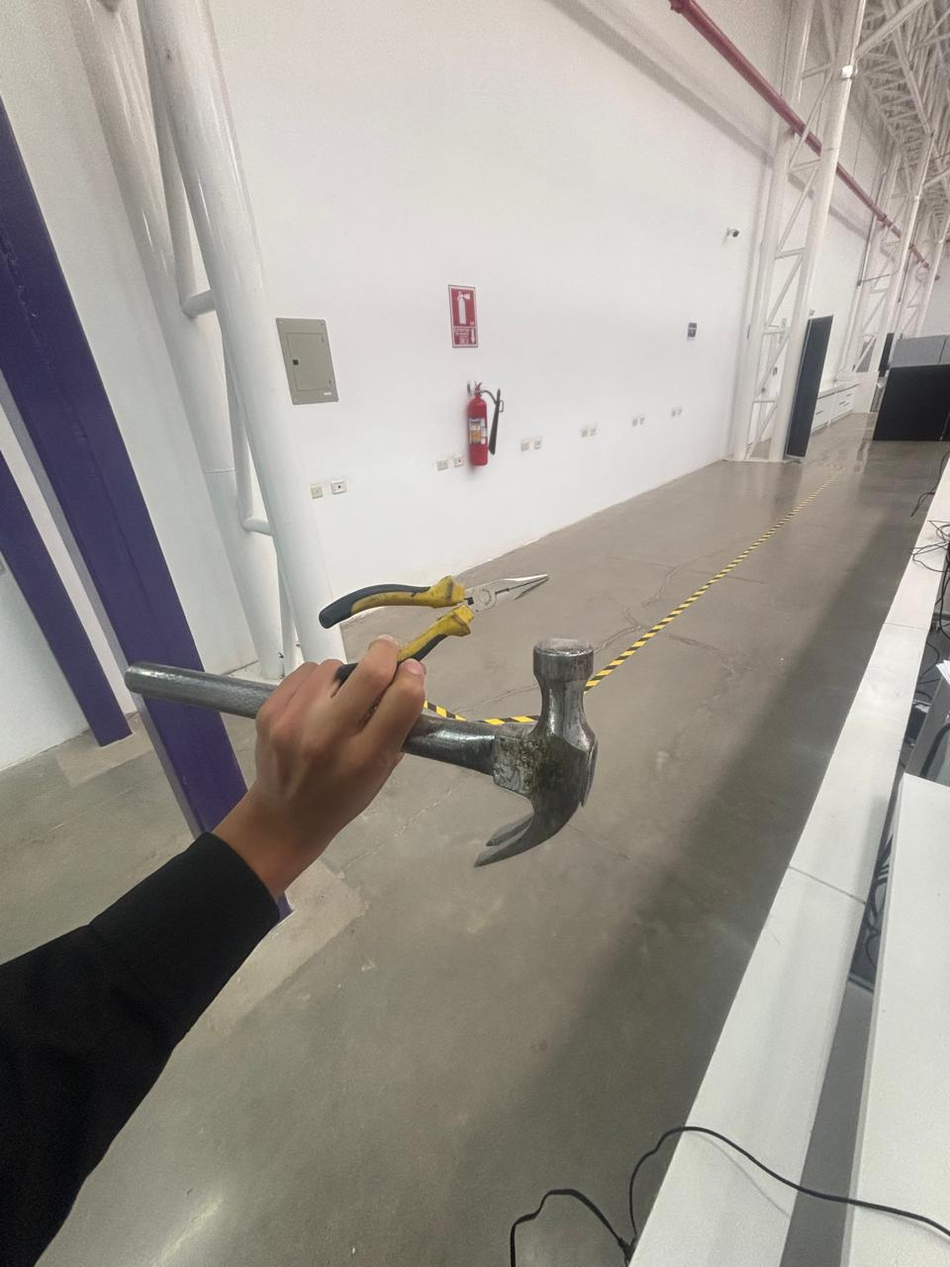hammer: (133, 635, 623, 871)
plier: (289, 555, 558, 656)
